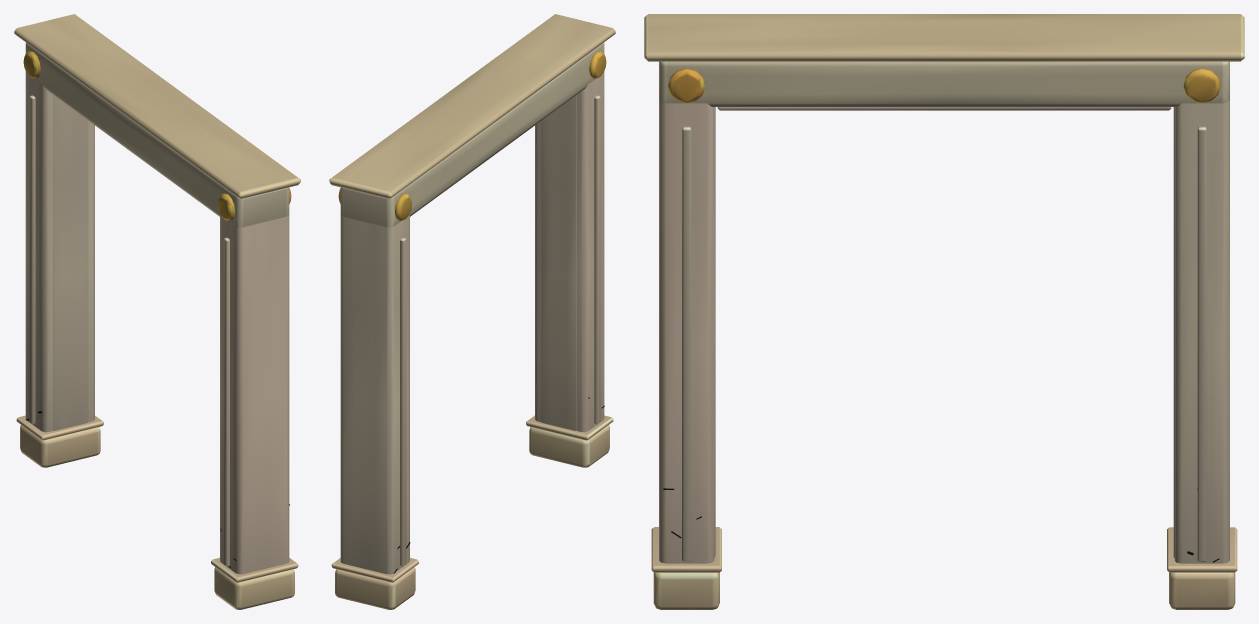
The model's file is SM_Door_Wardrobe_Frame.fbx.
3 renders of one model, left to right at view 1: azimuth 30°, elevation 25°; view 2: azimuth 150°, elevation 25°; view 3: azimuth 270°, elevation 25°, orthographic. The views are drawn at different scales.
Parts seen in each view (by area): view 1: SM_Door_Wardrobe_Frame; view 2: SM_Door_Wardrobe_Frame; view 3: SM_Door_Wardrobe_Frame.
Boxes of the visible parts, x1,y1,x2,y2 form: SM_Door_Wardrobe_Frame: (14, 14, 300, 609); SM_Door_Wardrobe_Frame: (329, 14, 615, 609); SM_Door_Wardrobe_Frame: (644, 14, 1244, 609).
Size of the model in its own units: 52.2 by 336 by 326.
